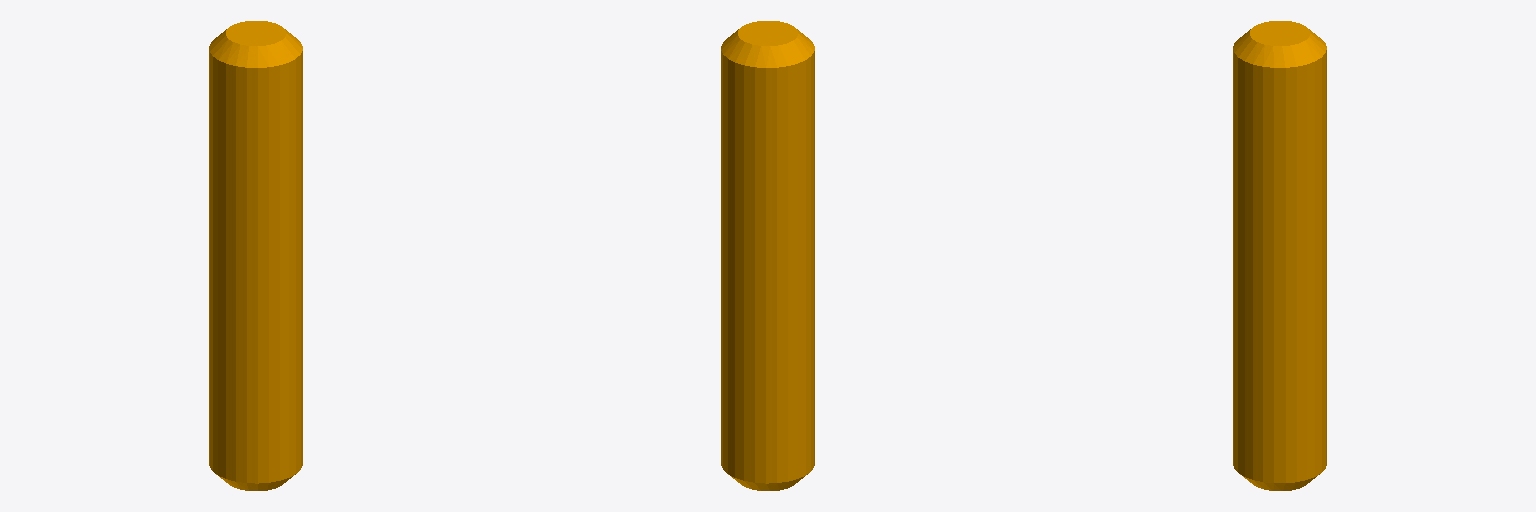
robot.urdf — 00256_plug:
<?xml version="1.0"?>
<robot name="00256_plug">
	<link name="00256_plug">
		<visual>
			<geometry>
				<mesh filename="../mesh/00256/asset_plug.obj"/>
			</geometry>
		</visual>
		<collision>
			<geometry>
				<mesh filename="../mesh/00256/asset_plug.obj"/>
			</geometry>
			<sdf resolution="256"/>
		</collision>
	</link>
</robot>

--- Render facts (derived) ---
The picture shows the robot from 3 angles, left to right: view 1: azimuth 30°, elevation 25°; view 2: azimuth 150°, elevation 25°; view 3: azimuth 270°, elevation 25°; orthographic projection.
Robot: 00256_plug — 1 links, 0 joints (none); root link 00256_plug; default pose: every joint at zero.
Links seen in each view (by area): view 1: 00256_plug; view 2: 00256_plug; view 3: 00256_plug.
Boxes of the visible links, x1=… form: 00256_plug: x1=209, y1=21, x2=302, y2=490; 00256_plug: x1=721, y1=21, x2=814, y2=490; 00256_plug: x1=1233, y1=21, x2=1326, y2=490.
Size in the robot's own frame: 0.0066 by 0.0067 by 0.0349 metres.
1 mesh visuals loaded from 1 distinct referenced files (1 OBJ).